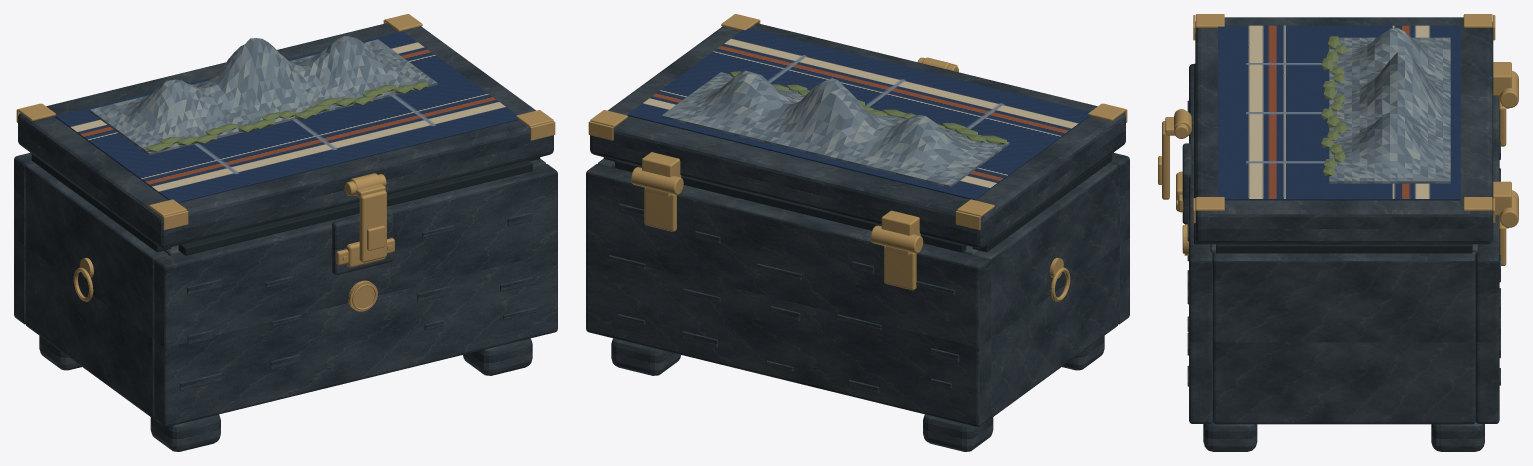
File: lesotho.glb
3 views of the same model, side by side, from view 1: azimuth 30°, elevation 25°; view 2: azimuth 150°, elevation 25°; view 3: azimuth 270°, elevation 25° (orthographic). The views are drawn at different scales.
Parts seen in each view (by area): view 1: Basalt / front, Lid / polished slab, Lid / woven indigo inset, Basalt / side, Maloti / three peak ridge, Seam / long, Basalt / rear, Basalt / low foot, Basalt / low foot.002, Latch / lifting hasp, Basalt / clasp seat, Seam / side (+2 smaller); view 2: Basalt / rear, Lid / polished slab, Lid / woven indigo inset, Basalt / side, Maloti / three peak ridge, Seam / long.001, Basalt / front, Basalt / low foot.001, Basalt / low foot.003, Hinge / fixed mount, Hinge / fixed mount.001, Seam / side (+5 smaller); view 3: Basalt / side.001, Lid / woven indigo inset, Lid / polished slab, Maloti / three peak ridge, Basalt / rear, Basalt / front, Seam / side.001, Basalt / low foot.002, Basalt / low foot.003, Basalt / clasp seat, Hinge / moving leaf, Latch / lifting hasp (+7 smaller).
Part boxes in pixels (<box>): Basalt / front: <box>154,164,557,426</box>; Lid / polished slab: <box>18,23,553,248</box>; Lid / woven indigo inset: <box>55,31,518,202</box>; Basalt / side: <box>25,163,168,418</box>; Maloti / three peak ridge: <box>89,36,437,155</box>; Seam / long: <box>178,160,532,255</box>; Basalt / rear: <box>14,152,34,324</box>; Basalt / low foot: <box>150,414,220,451</box>; Basalt / low foot.002: <box>463,338,532,375</box>; Latch / lifting hasp: <box>359,190,386,262</box>; Basalt / clasp seat: <box>332,208,393,274</box>; Seam / side: <box>31,154,171,252</box>; Basalt / rear: <box>586,164,989,426</box>; Lid / polished slab: <box>590,23,1125,248</box>; Lid / woven indigo inset: <box>627,28,1090,200</box>; Basalt / side: <box>975,163,1118,418</box>; Maloti / three peak ridge: <box>661,70,1009,187</box>; Seam / long.001: <box>615,160,966,252</box>; Basalt / front: <box>1109,152,1129,324</box>; Basalt / low foot.001: <box>923,414,993,451</box>; Basalt / low foot.003: <box>611,338,680,375</box>; Hinge / fixed mount: <box>884,246,916,290</box>; Hinge / fixed mount.001: <box>644,187,676,231</box>; Seam / side: <box>972,154,1112,252</box>; Basalt / side.001: <box>1213,251,1475,424</box>; Lid / woven indigo inset: <box>1218,25,1460,200</box>; Lid / polished slab: <box>1195,17,1493,244</box>; Maloti / three peak ridge: <box>1329,27,1450,183</box>; Basalt / rear: <box>1475,96,1499,423</box>; Basalt / front: <box>1189,64,1212,423</box>; Seam / side.001: <box>1216,244,1472,253</box>; Basalt / low foot.002: <box>1203,422,1257,451</box>; Basalt / low foot.003: <box>1431,422,1484,451</box>; Basalt / clasp seat: <box>1182,143,1191,224</box>; Hinge / moving leaf: <box>1493,62,1511,95</box>; Latch / lifting hasp: <box>1162,121,1169,199</box>.
Size of the model in its own units: 3.79 by 2.74 by 2.88.
10 materials, 2 textured.
